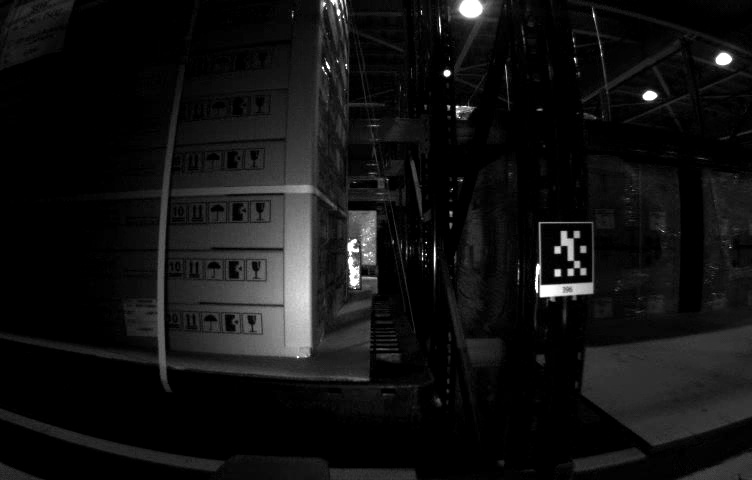True Barcode: (123, 298, 160, 338)
